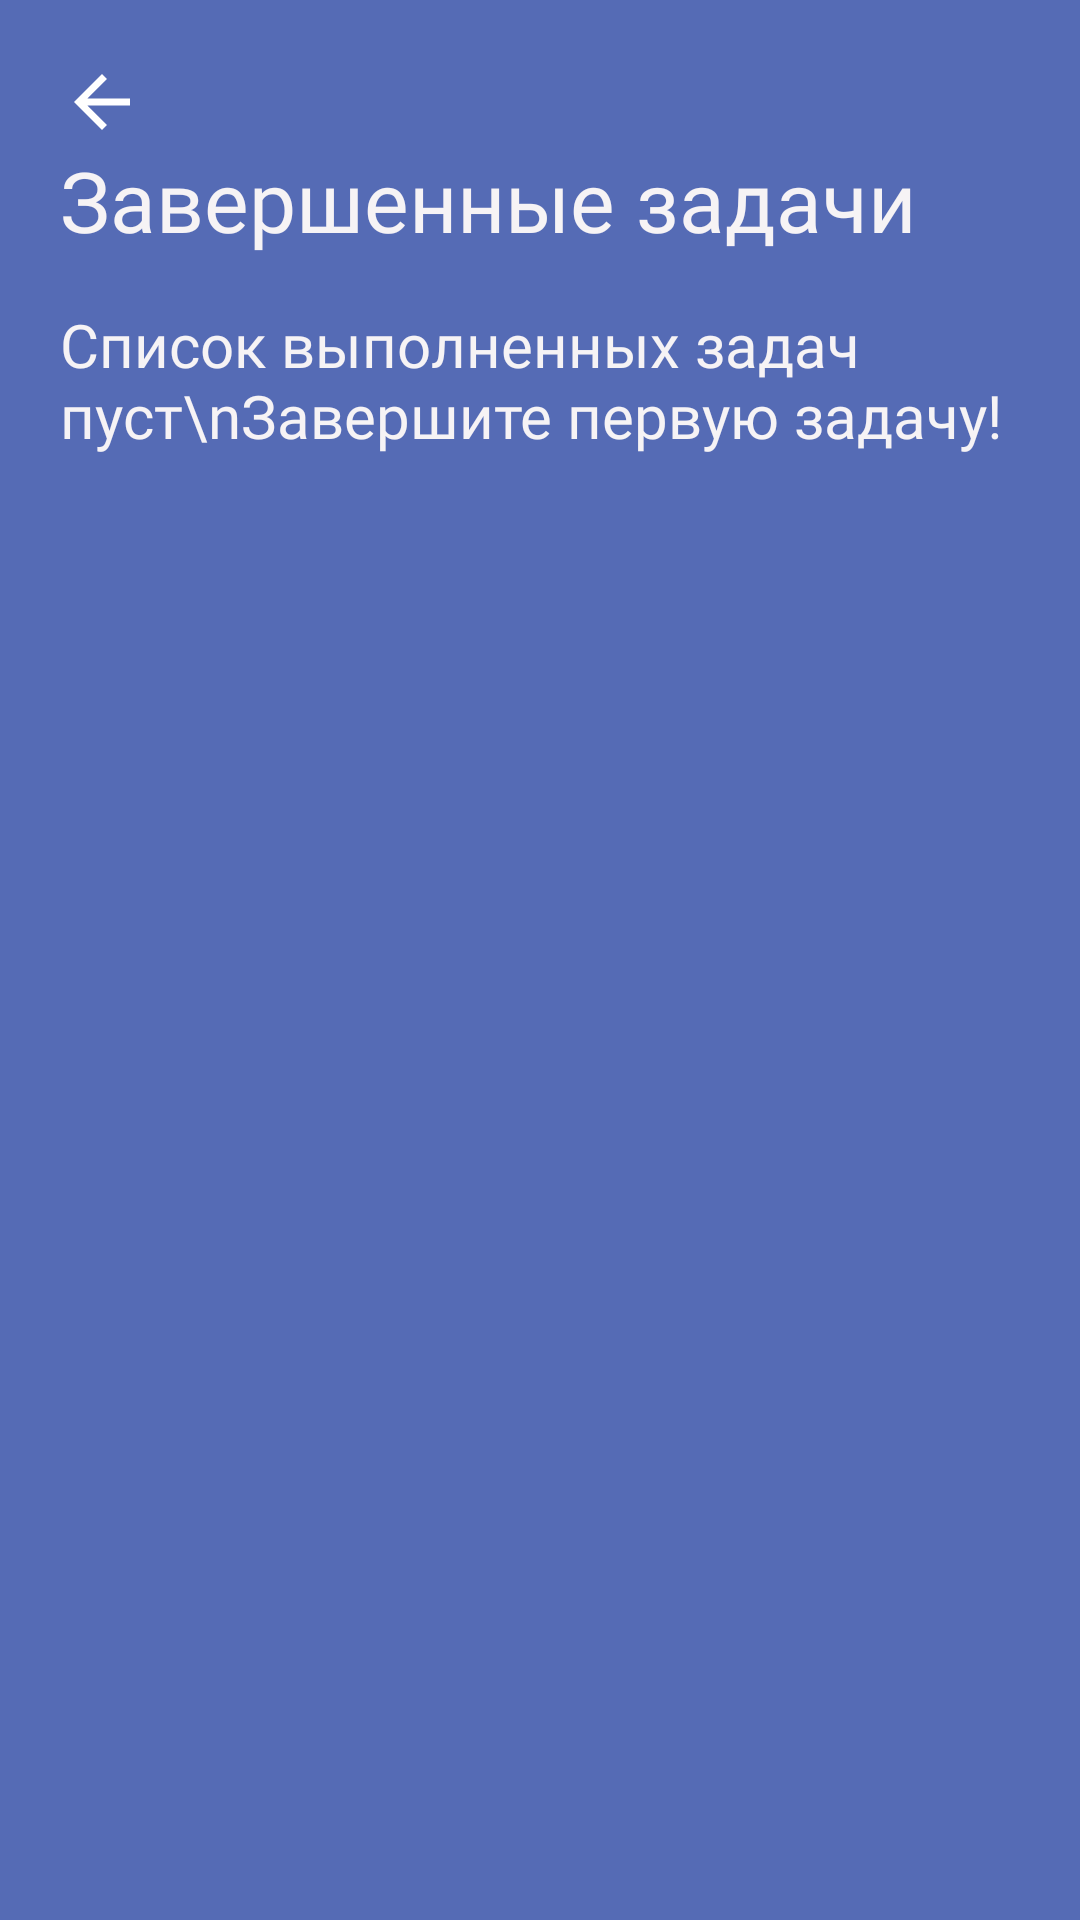

Screen size 1080 x 1920. Icon name, then its box in pixels as (x1, y1, x2, y2):
arrow back: (74, 74, 130, 130)
